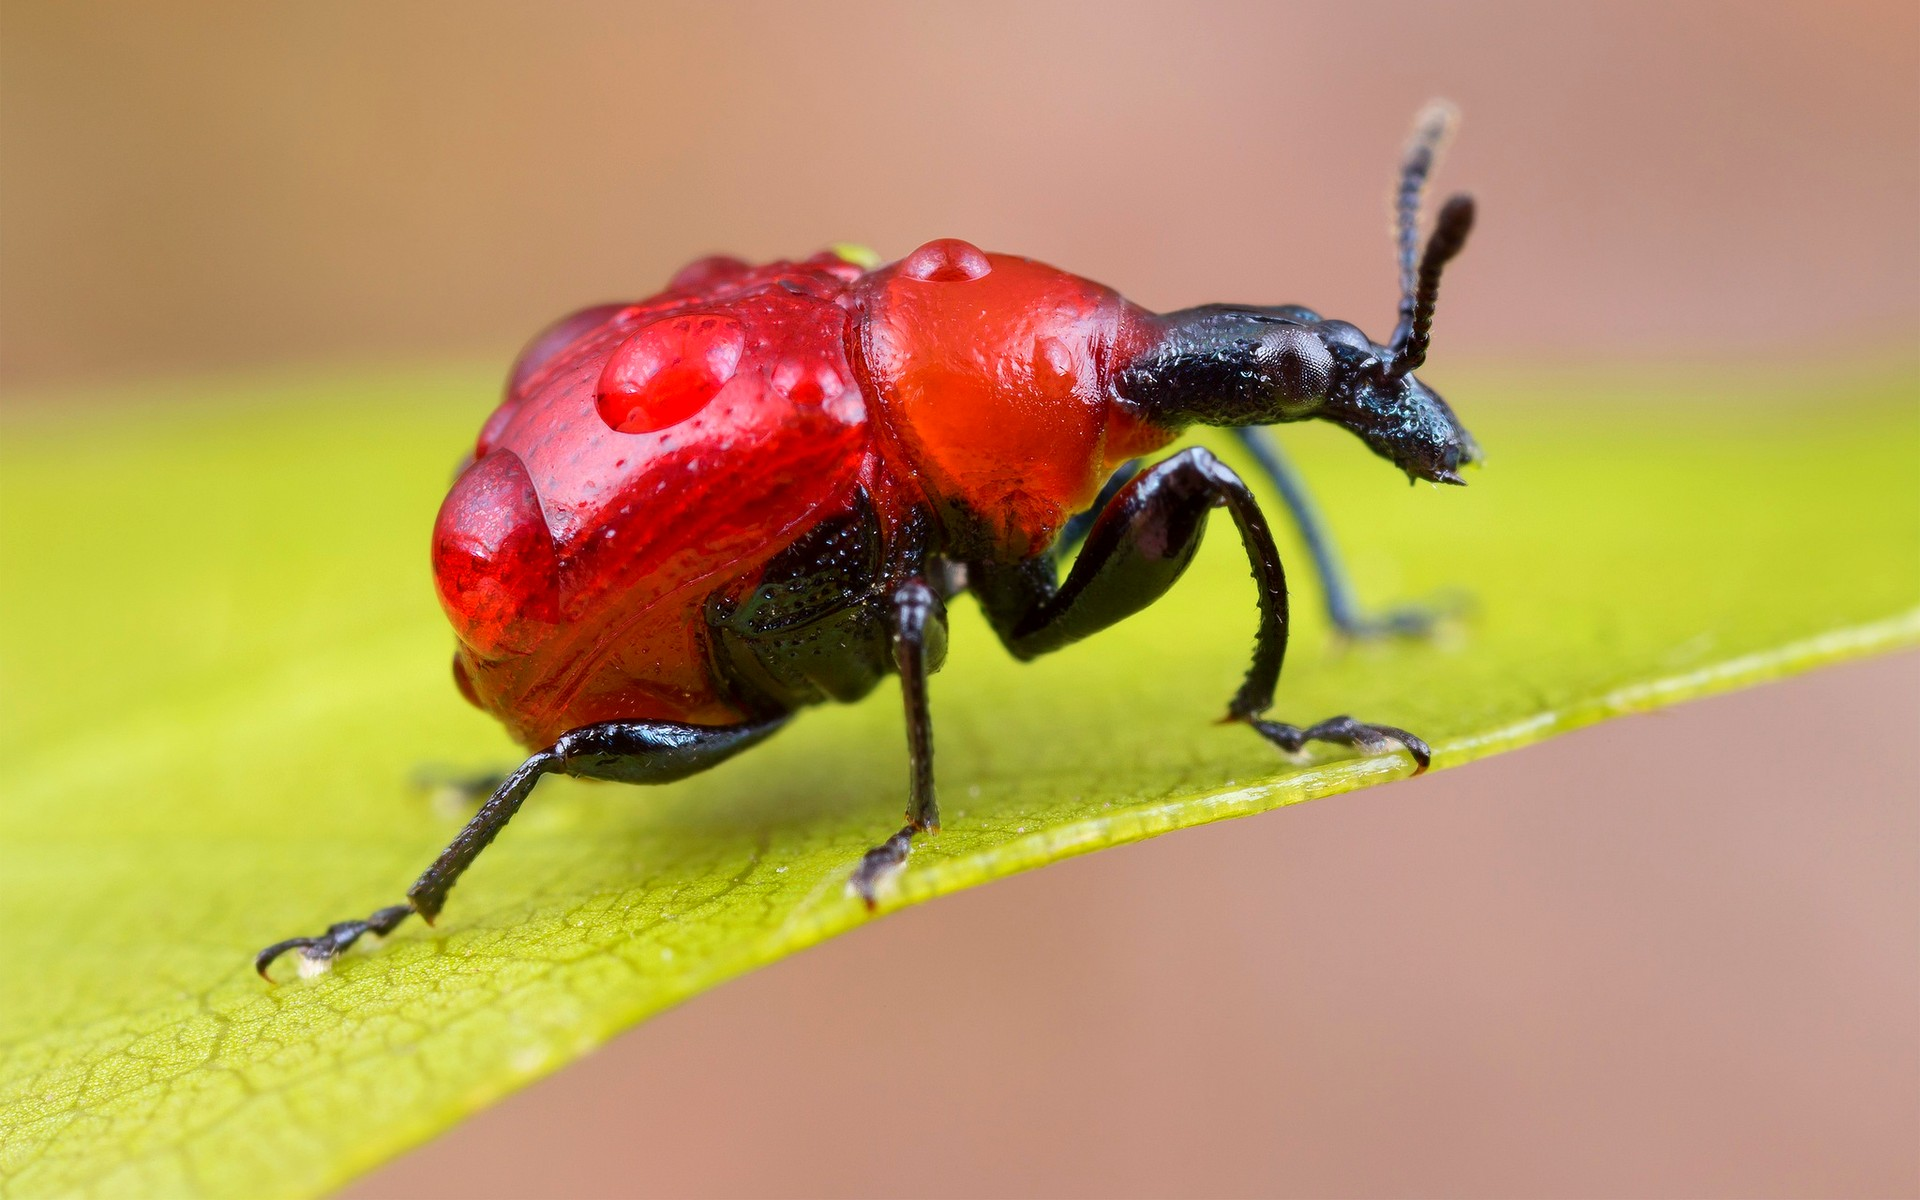dolgonosik: (293, 158, 1527, 946)
